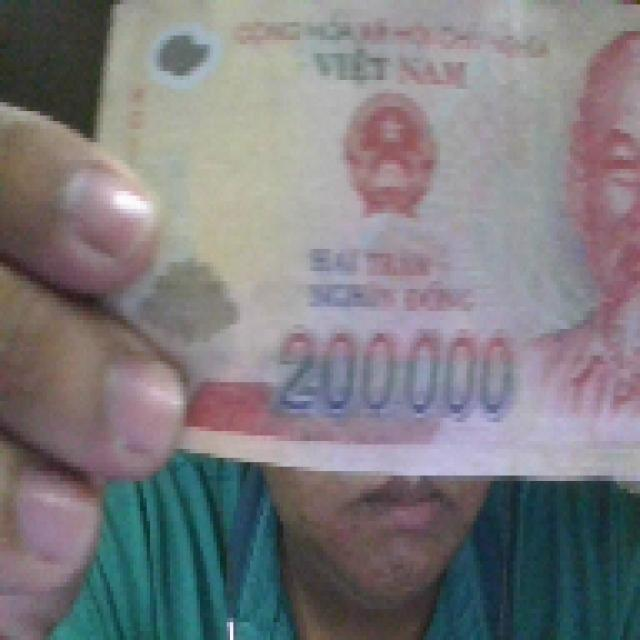200 000 VND: (83, 0, 636, 484)
